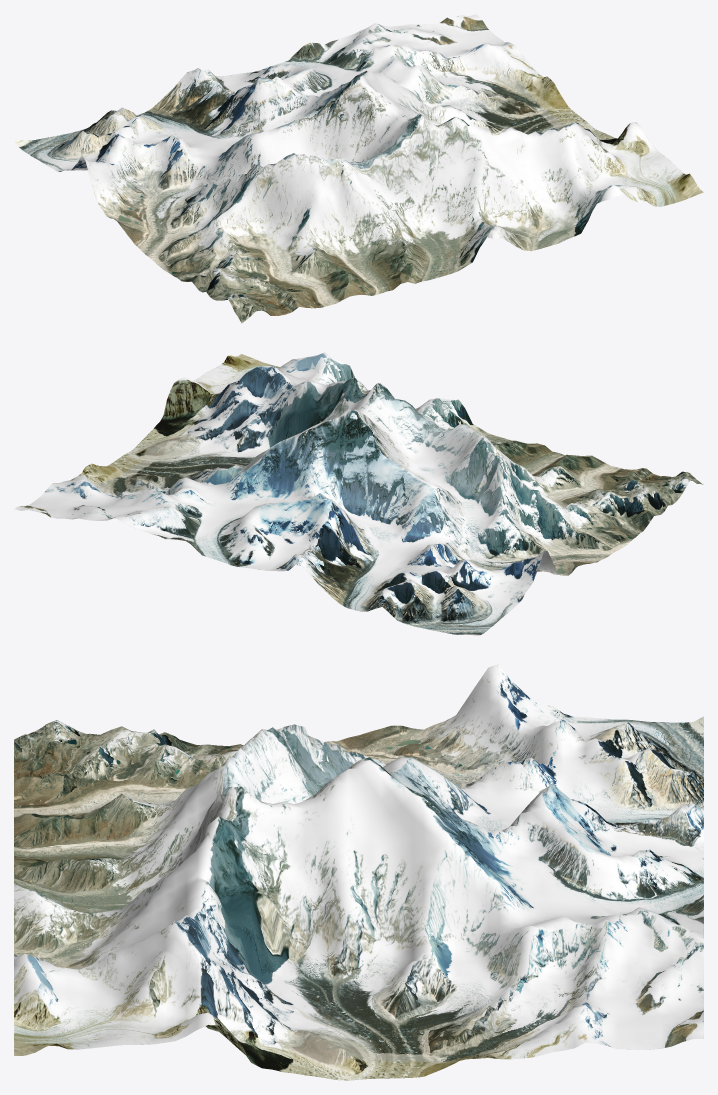
3 views of the same model, one above another, from view 1: azimuth 30°, elevation 25°; view 2: azimuth 150°, elevation 25°; view 3: azimuth 270°, elevation 25° (orthographic). The views are drawn at different scales.
Parts seen in each view (by area): view 1: Object_3; view 2: Object_3; view 3: Object_3.
Boxes of the visible parts, <box> form: Object_3: <box>14,14,703,323</box>; Object_3: <box>14,352,703,635</box>; Object_3: <box>14,664,703,1080</box>.
Bounding box in the file's own units: 20791 × 4629 × 17733.
1 material, 1 textured.
